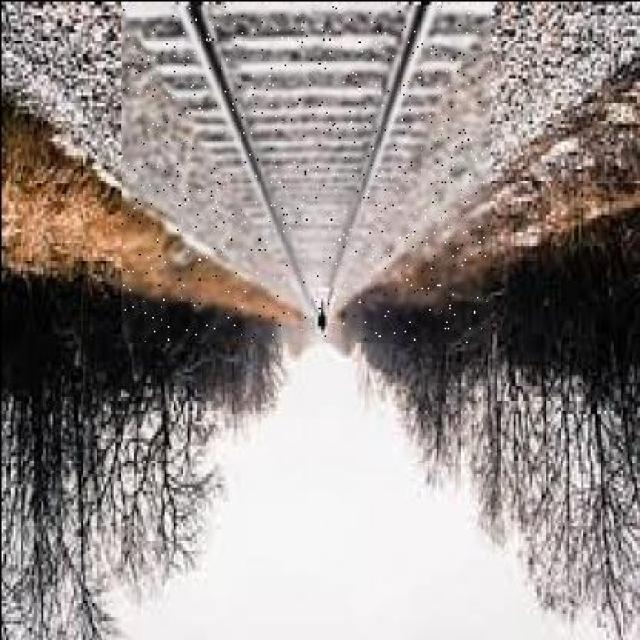danger: (311, 284, 334, 333)
rail: (121, 5, 488, 340)
